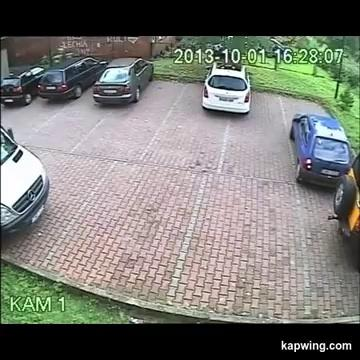car: (1, 126, 49, 234), (289, 113, 352, 186), (328, 152, 359, 269), (38, 56, 108, 99), (93, 58, 153, 103), (202, 62, 250, 113), (1, 65, 44, 105)
